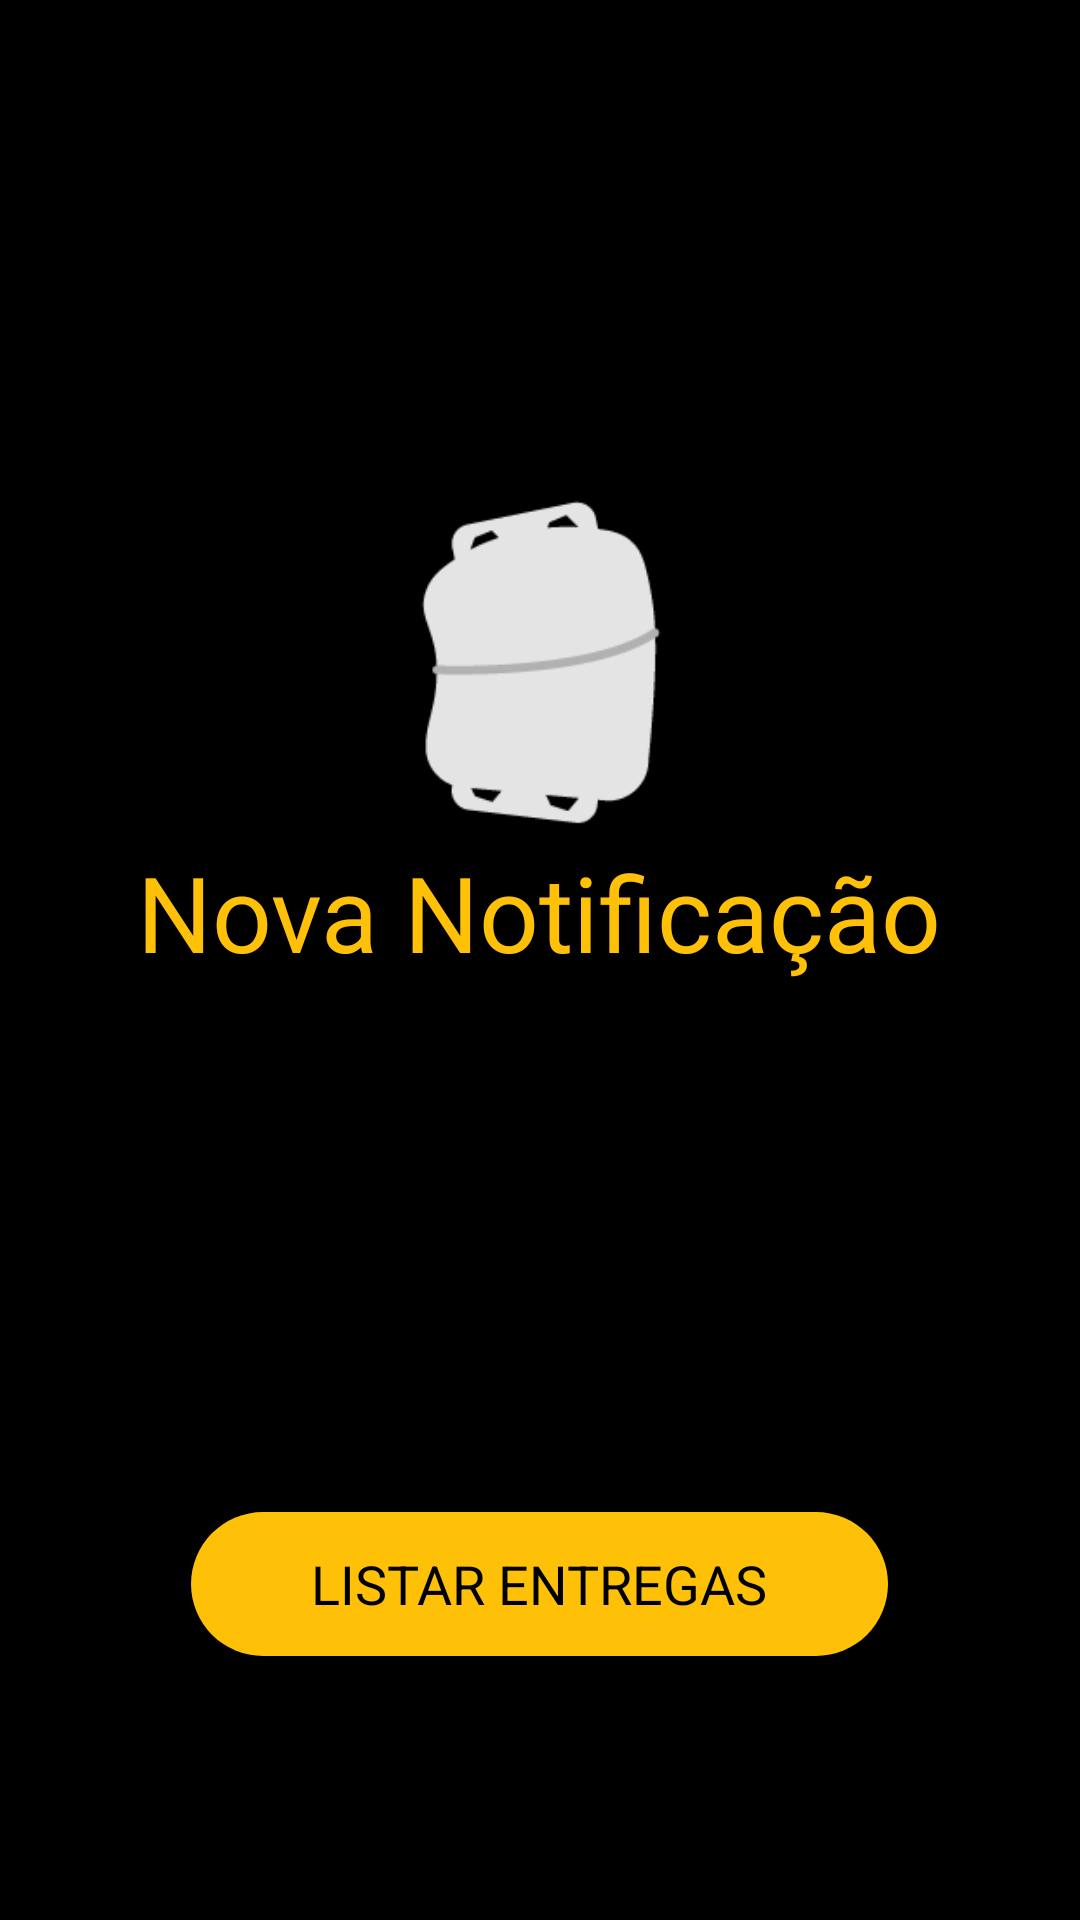

Locate icon controls on the screen. Image size 1080 x 1920, boxes as (x1, y1, x2, y2).
gas animado: (422, 501, 660, 824)
